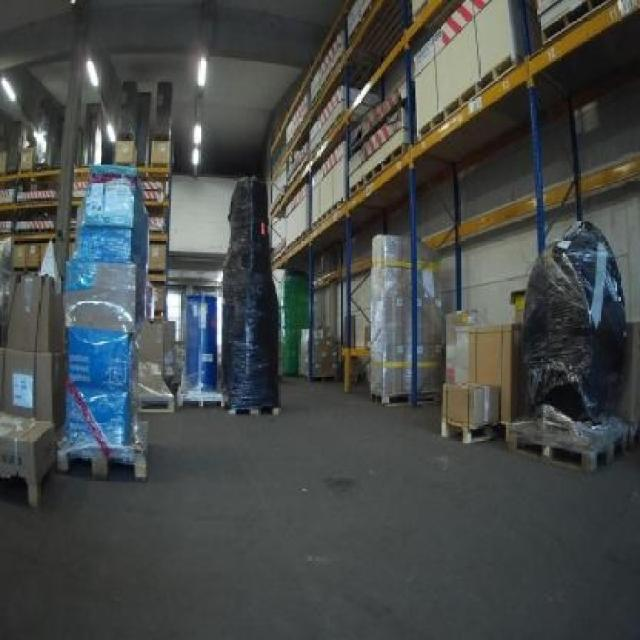floor: (0, 378, 637, 637)
pallets: (57, 165, 145, 477), (368, 232, 408, 400), (175, 294, 220, 403), (0, 411, 52, 505), (417, 243, 440, 398)
